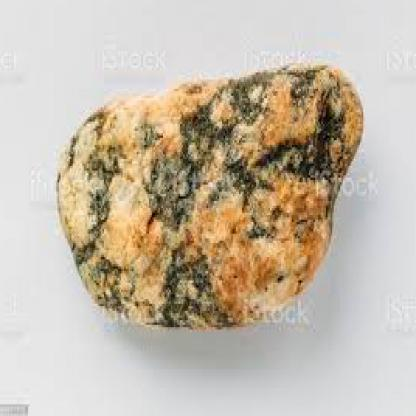Metamorphic_Quartize: (56, 49, 363, 339)
